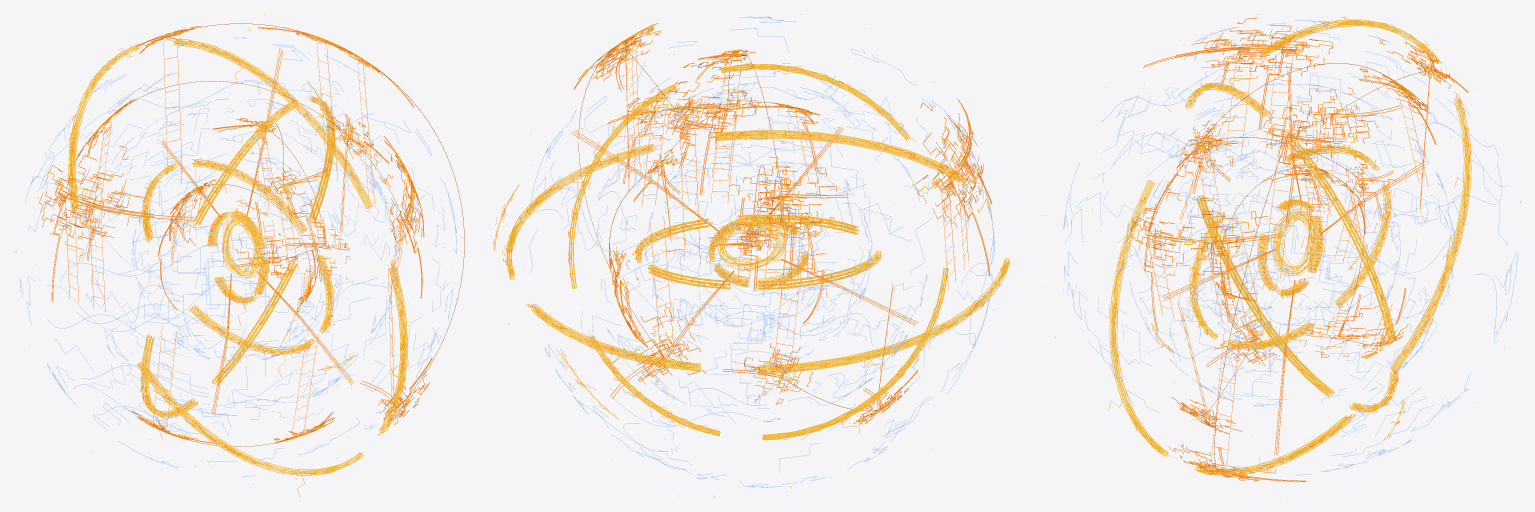
File: dani-sphere.glb
The picture shows the model from 3 angles, left to right: view 1: azimuth 30°, elevation 25°; view 2: azimuth 150°, elevation 25°; view 3: azimuth 270°, elevation 25°; orthographic projection. The views are drawn at different scales.
Visible parts, largest first — view 1: Array 07 • interrupted rails, Interlayer 2 • connective threads, Array 05 • interrupted rails, Interlayer 1 • connective threads, Shell 3 • routed circuits, Array 03 • interrupted rails, Interlayer 0 • connective threads, Shell 2 • routed circuits, Shell 1 • routed circuits, Shell 3 • vertical ladders, CORE • radial data filaments, Array 00 • interrupted rails (+10 smaller); view 2: Array 07 • interrupted rails, Interlayer 2 • connective threads, Array 05 • interrupted rails, Interlayer 1 • connective threads, Shell 3 • routed circuits, Shell 2 • routed circuits, Array 03 • interrupted rails, Interlayer 0 • connective threads, Shell 3 • vertical ladders, CORE • radial data filaments, Shell 2 • vertical ladders, Array 00 • interrupted rails (+10 smaller); view 3: Array 07 • interrupted rails, Interlayer 2 • connective threads, Shell 3 • routed circuits, Array 05 • interrupted rails, Shell 2 • routed circuits, Interlayer 1 • connective threads, Array 03 • interrupted rails, Interlayer 0 • connective threads, Shell 3 • vertical ladders, Shell 1 • routed circuits, Array 00 • interrupted rails, Shell 2 • vertical ladders (+11 smaller).
Boxes of the visible parts, x1,y1,x2,y2 form: Array 07 • interrupted rails: (68,38,407,475); Interlayer 2 • connective threads: (20,37,456,476); Array 05 • interrupted rails: (140,96,335,417); Interlayer 1 • connective threads: (80,98,396,415); Shell 3 • routed circuits: (39,26,432,435); Array 03 • interrupted rails: (142,159,333,354); Interlayer 0 • connective threads: (132,151,340,362); Shell 2 • routed circuits: (68,99,424,444); Shell 1 • routed circuits: (212,118,349,281); Shell 3 • vertical ladders: (65,36,397,408); CORE • radial data filaments: (161,48,353,414); Array 00 • interrupted rails: (207,211,268,303); Array 07 • interrupted rails: (506,130,1009,373); Interlayer 2 • connective threads: (529,16,994,487); Array 05 • interrupted rails: (569,64,948,440); Interlayer 1 • connective threads: (593,82,927,421); Shell 3 • routed circuits: (573,23,992,398); Shell 2 • routed circuits: (607,51,917,424); Array 03 • interrupted rails: (635,214,881,289); Interlayer 0 • connective threads: (645,138,872,365); Shell 3 • vertical ladders: (625,40,968,358); CORE • radial data filaments: (571,127,918,377); Shell 2 • vertical ladders: (641,56,892,409); Array 00 • interrupted rails: (709,216,808,288); Array 07 • interrupted rails: (1109,19,1471,475); Interlayer 2 • connective threads: (1063,20,1518,475); Shell 3 • routed circuits: (1143,17,1468,481); Array 05 • interrupted rails: (1185,82,1398,412); Shell 2 • routed circuits: (1131,68,1436,433); Interlayer 1 • connective threads: (1126,83,1454,406); Array 03 • interrupted rails: (1190,145,1391,349); Interlayer 0 • connective threads: (1187,139,1400,356); Shell 3 • vertical ladders: (1211,49,1431,469); Shell 1 • routed circuits: (1148,127,1408,358); Array 00 • interrupted rails: (1257,199,1323,295); Shell 2 • vertical ladders: (1146,92,1428,415).
Bounding box in the file's own units: 4.54 × 4.25 × 4.45.
